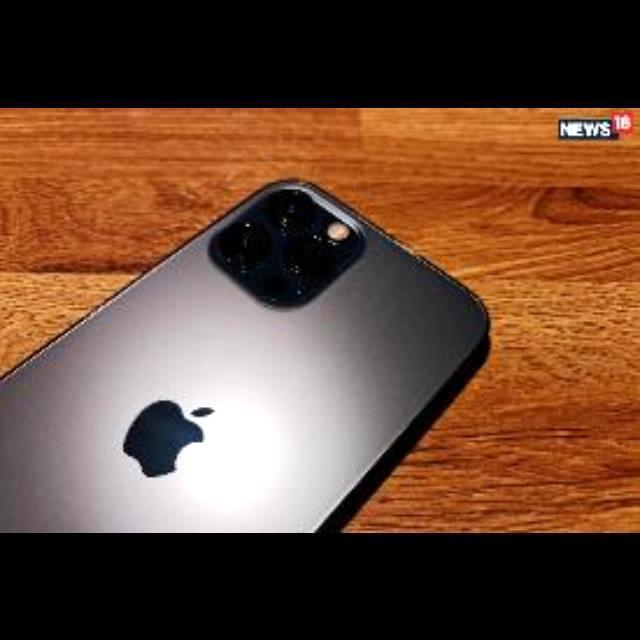lens_back: (280, 243, 338, 286), (265, 187, 317, 229), (224, 222, 272, 262)
phone: (2, 175, 493, 533)
